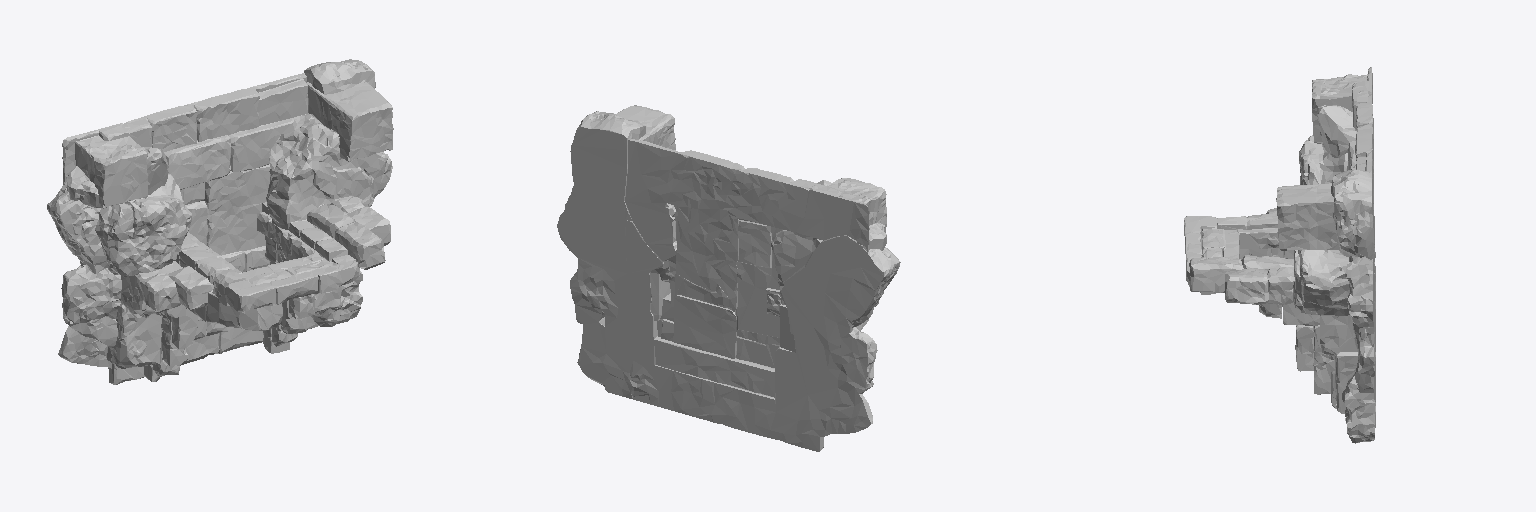
The model's file is Temple.obj.
3 renders of one model, left to right at view 1: azimuth 30°, elevation 25°; view 2: azimuth 150°, elevation 25°; view 3: azimuth 270°, elevation 25°, orthographic.
Visible parts, largest first — view 1: object_0; view 2: object_0; view 3: object_0.
Part boxes in pixels (x1,y1,x2,y2): object_0: (47, 59, 393, 384); object_0: (557, 105, 900, 451); object_0: (1184, 67, 1375, 443).
Size of the model in its own units: 12.01 by 9.59 by 6.1.